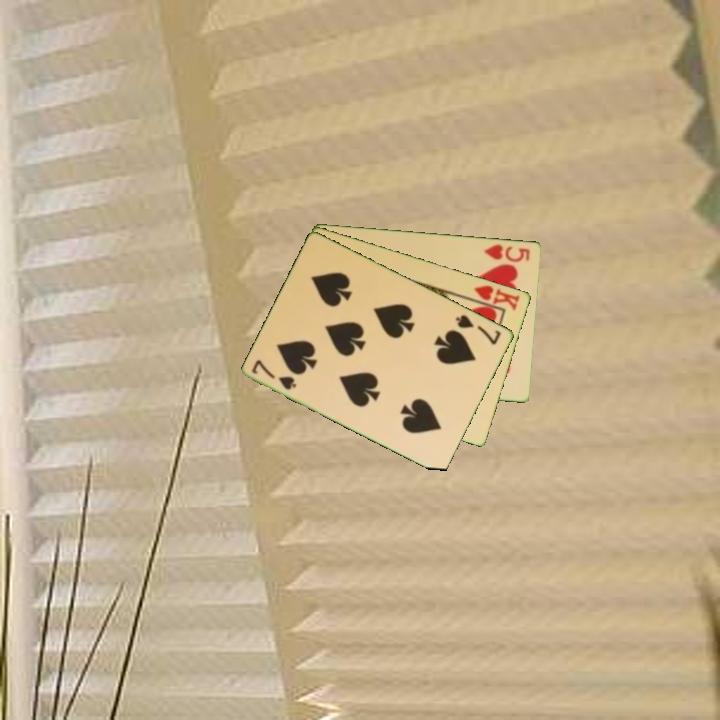5h: (481, 240, 533, 265)
7s: (452, 311, 504, 348), (248, 356, 300, 393)
Kh: (465, 281, 523, 313)
